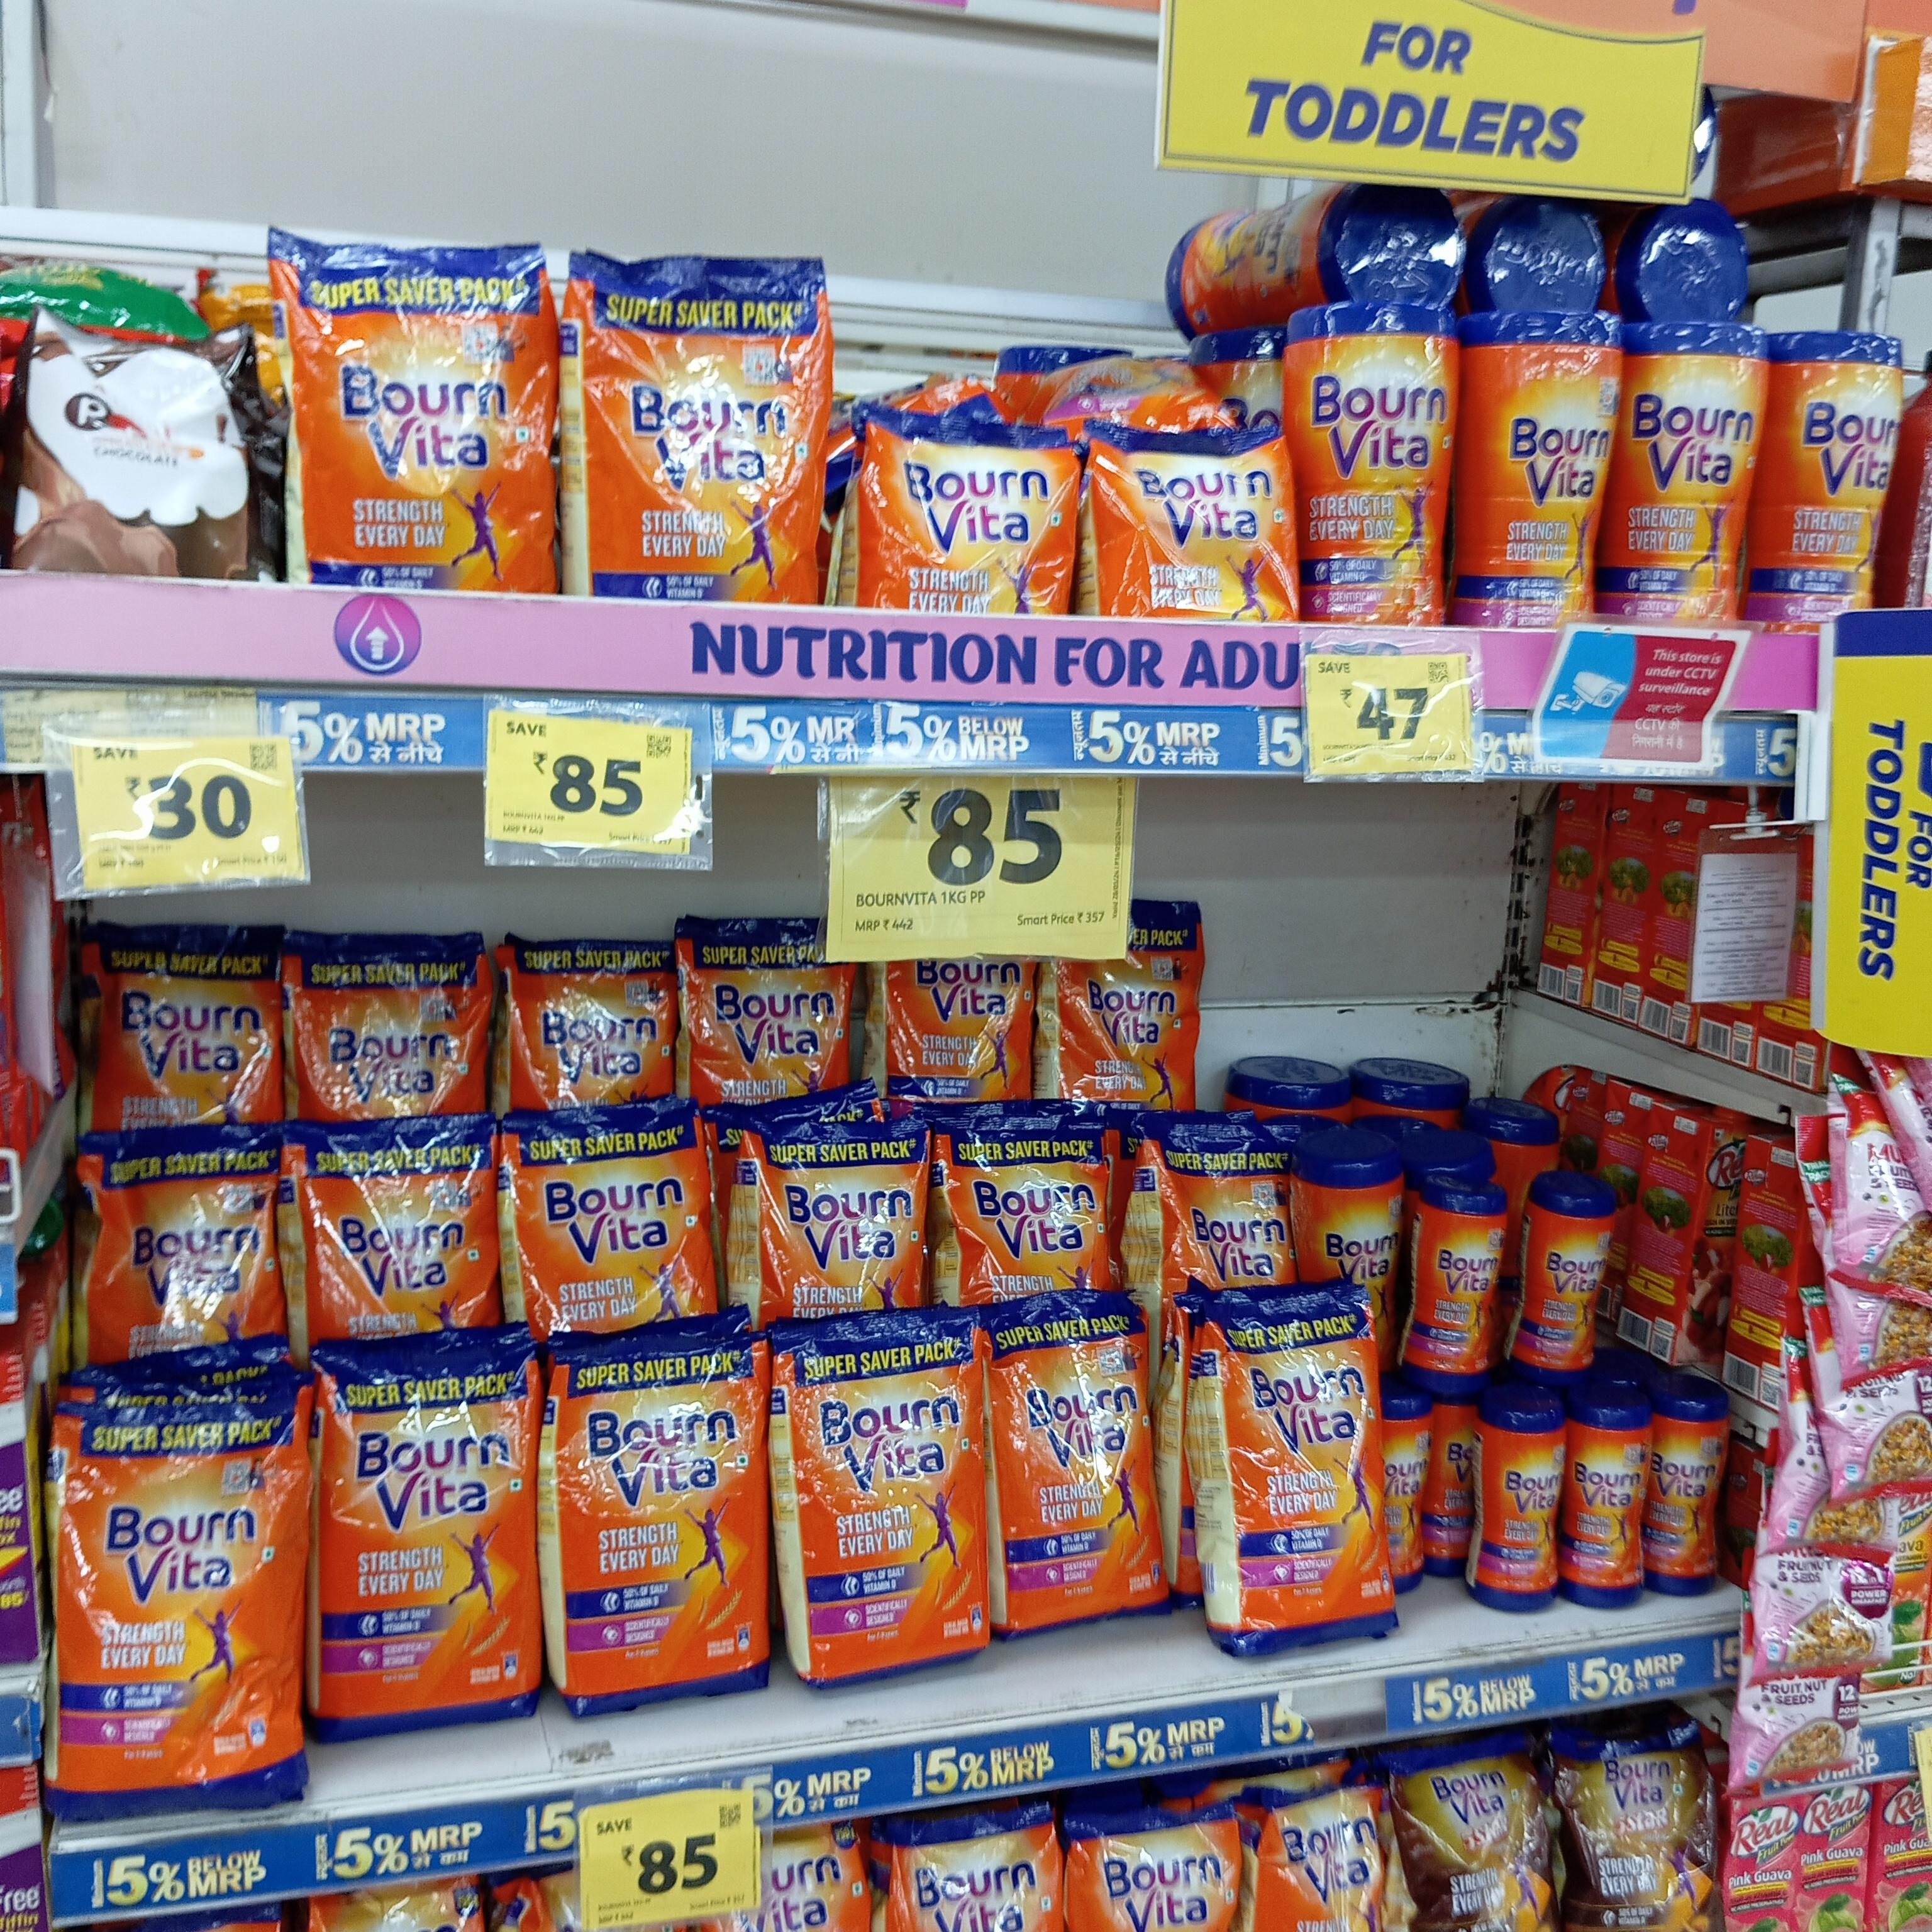BOURN_VITA_1_KG_JAR: (1299, 299, 1453, 632), (1474, 315, 1619, 635), (1628, 317, 1760, 621), (1766, 333, 1904, 607)
BOURN_VITA_1_KG_POUCH: (62, 1414, 297, 1817), (290, 241, 550, 600), (326, 1348, 541, 1736), (586, 265, 828, 605), (556, 1338, 764, 1714), (794, 1320, 978, 1675), (1217, 1295, 1392, 1652), (994, 1307, 1155, 1637)
BOURN_VITA_500_G_JAR: (1481, 1405, 1564, 1610), (1569, 1403, 1645, 1619), (1534, 1185, 1612, 1382), (1426, 1192, 1504, 1387), (1651, 1396, 1723, 1594)
BOURN_VITA_500_G_POUCH: (867, 416, 1076, 626), (1090, 419, 1290, 625)
BOURN_VITA_FIVE_STAR_MAGIC_500_G_POUCH: (1566, 1736, 1711, 1932), (1412, 1744, 1560, 1932)
